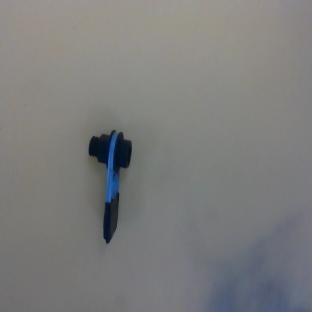part_1_bad: (88, 129, 137, 244)
